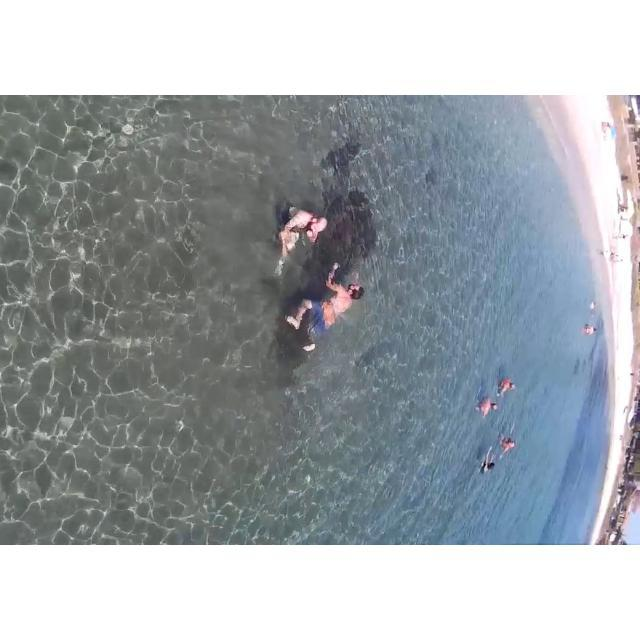human: (274, 249, 367, 371), (266, 194, 337, 300), (497, 429, 521, 458), (481, 444, 499, 479), (498, 372, 522, 398), (471, 395, 495, 419), (584, 319, 597, 339)
